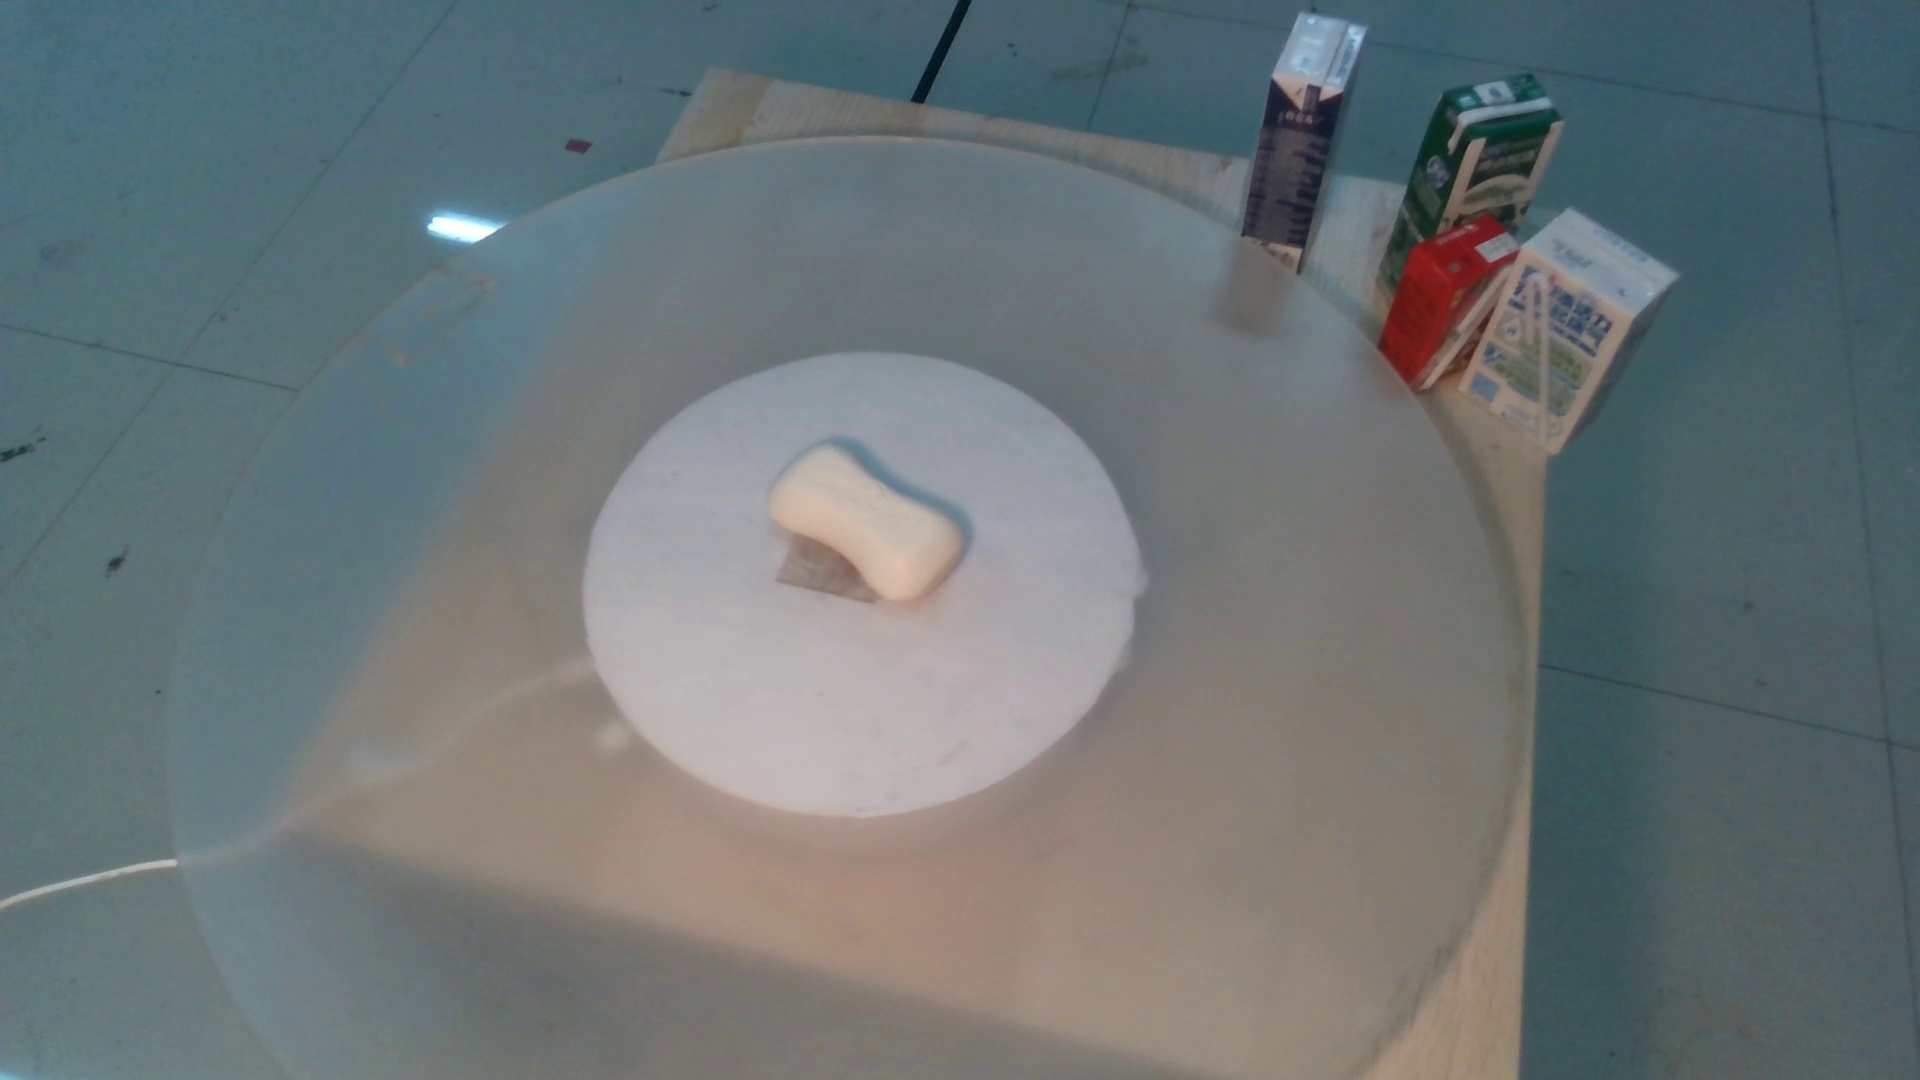CA003_1: (738, 433, 990, 607)
